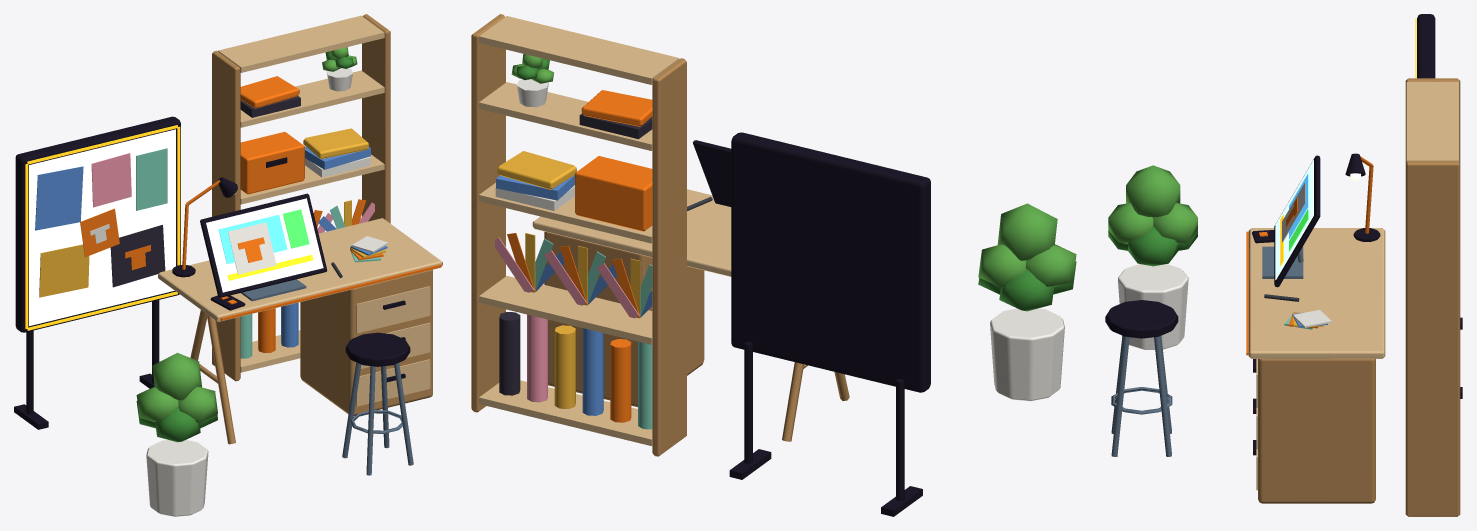
File: station_intake_3.glb
3 views of the same model, side by side, from view 1: azimuth 30°, elevation 25°; view 2: azimuth 150°, elevation 25°; view 3: azimuth 270°, elevation 25° (orthographic). The views are drawn at different scales.
Visible parts, largest first — view 1: station_intake_3; view 2: station_intake_3; view 3: station_intake_3.
Boxes of the visible parts, bbox=[...] form: station_intake_3: bbox=[14, 14, 442, 516]; station_intake_3: bbox=[471, 14, 1076, 516]; station_intake_3: bbox=[1105, 14, 1462, 516].
Size of the model in its own units: 2.09 by 1.72 by 1.57.
